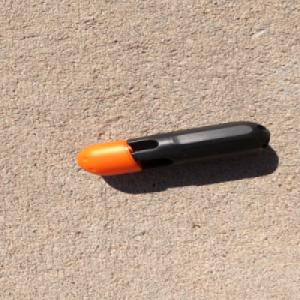PlasticPart: (75, 120, 272, 176)
